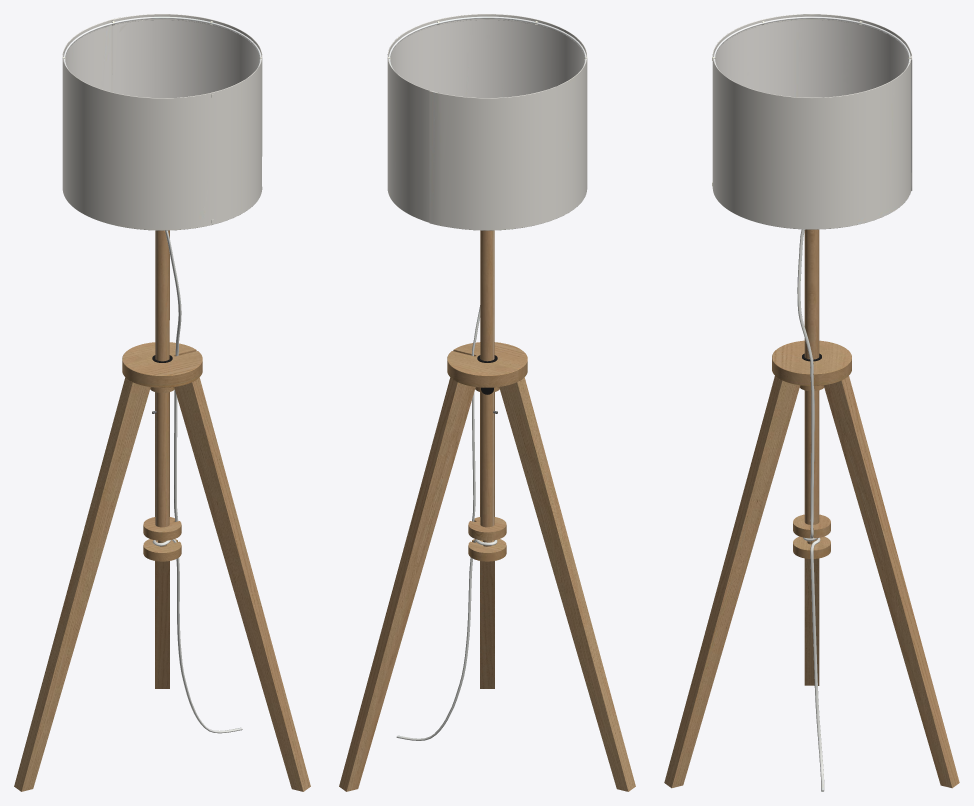
Rendered from lauters_lampa_podogowa_30405042.glb.
3 views of the same model, side by side, from view 1: azimuth 30°, elevation 25°; view 2: azimuth 150°, elevation 25°; view 3: azimuth 270°, elevation 25° (orthographic).
Parts seen in each view (by area): view 1: lauters_lampa_podogowa_30405042; view 2: lauters_lampa_podogowa_30405042; view 3: lauters_lampa_podogowa_30405042.
Boxes of the visible parts, <box> form: lauters_lampa_podogowa_30405042: <box>14,14,310,791</box>; lauters_lampa_podogowa_30405042: <box>339,14,635,791</box>; lauters_lampa_podogowa_30405042: <box>664,14,959,791</box>.
Bounding box in the file's own units: 0.4971 × 1.43 × 0.5527.
1 material, 1 textured.
